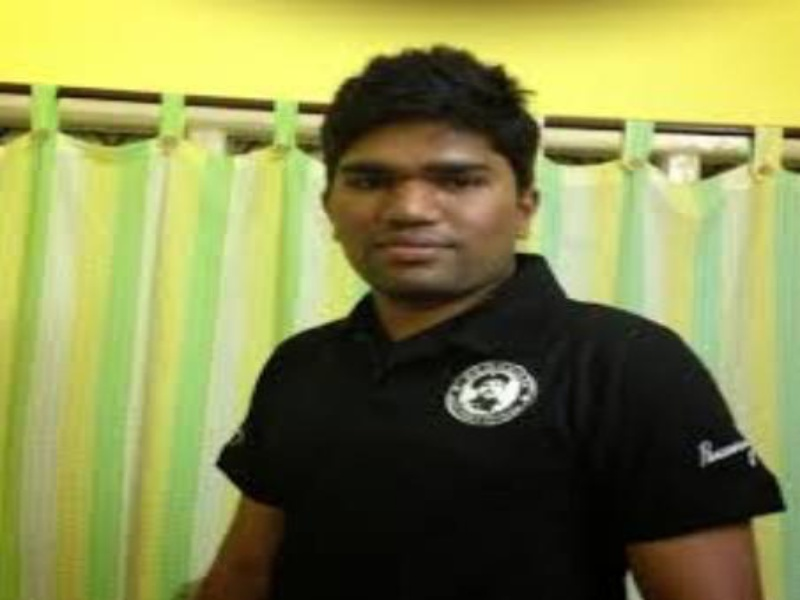TsisyArotava: (292, 42, 549, 312)
